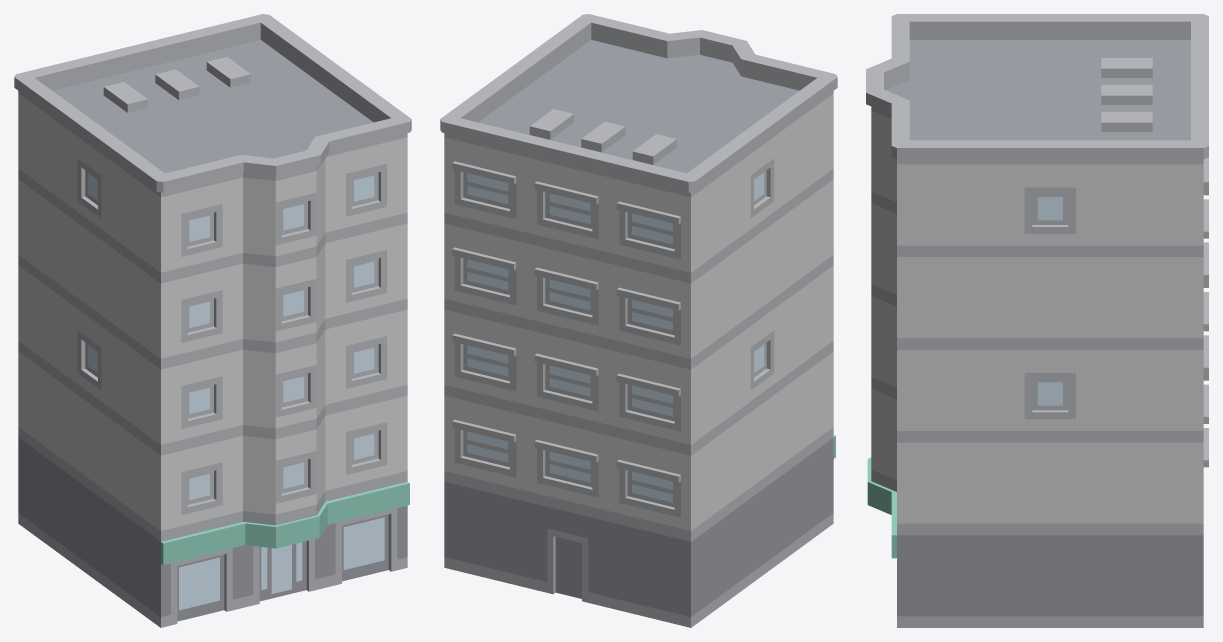
File: LargeBuildingE-transformed.glb
The picture shows the model from 3 angles, left to right: view 1: azimuth 30°, elevation 25°; view 2: azimuth 150°, elevation 25°; view 3: azimuth 270°, elevation 25°; orthographic projection. The views are drawn at different scales.
Parts seen in each view (by area): view 1: large_buildingE; view 2: large_buildingE; view 3: large_buildingE.
Boxes of the visible parts, x1,y1,x2,y2 form: large_buildingE: (14, 14, 411, 627); large_buildingE: (440, 14, 837, 627); large_buildingE: (866, 14, 1208, 627).
Bounding box in the file's own units: 1.24 × 2.08 × 1.34.
